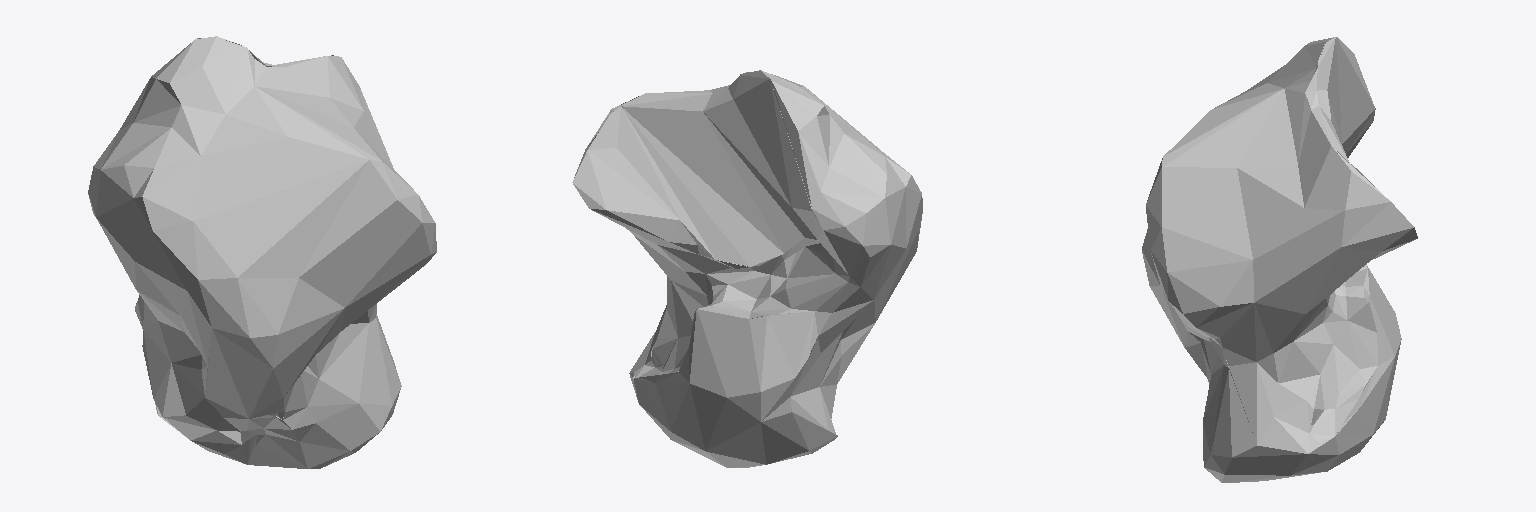
File: left talus.obj
3 renders of one model, left to right at view 1: azimuth 30°, elevation 25°; view 2: azimuth 150°, elevation 25°; view 3: azimuth 270°, elevation 25°, orthographic.
Parts seen in each view (by area): view 1: grp1; view 2: grp1; view 3: grp1.
Boxes of the visible parts, x1=… form: grp1: x1=88, y1=36, x2=436, y2=468; grp1: x1=572, y1=70, x2=922, y2=467; grp1: x1=1142, y1=37, x2=1417, y2=482.
Size of the model in its own units: 40.74 by 56.9 by 34.53.